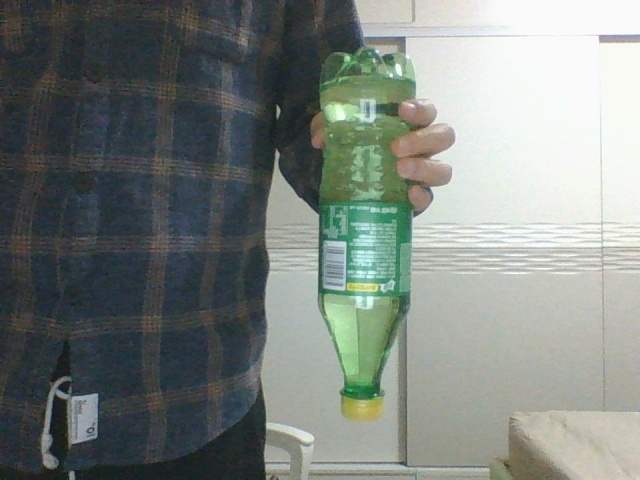Sprite: (317, 46, 416, 421)
